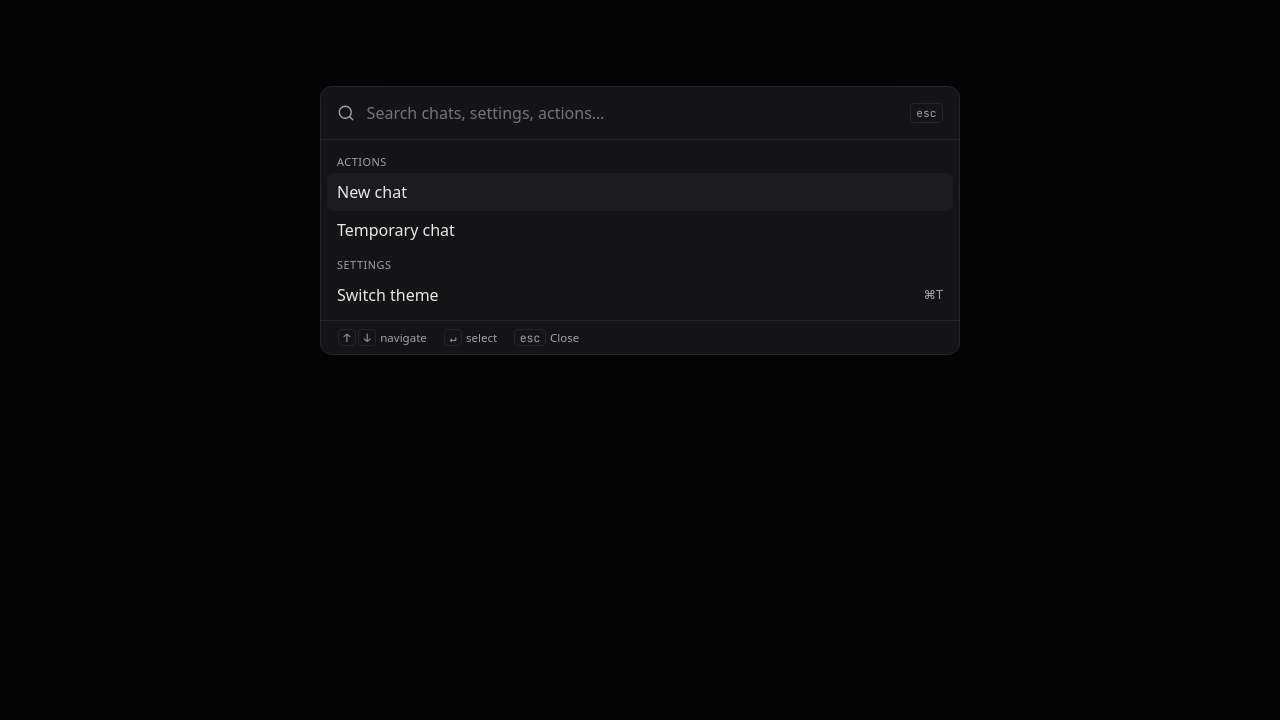
CommandPalette › shows the no-results state when nothing matches
Type "zzzzz" into the field at (632, 113), box [365,101,900,125]
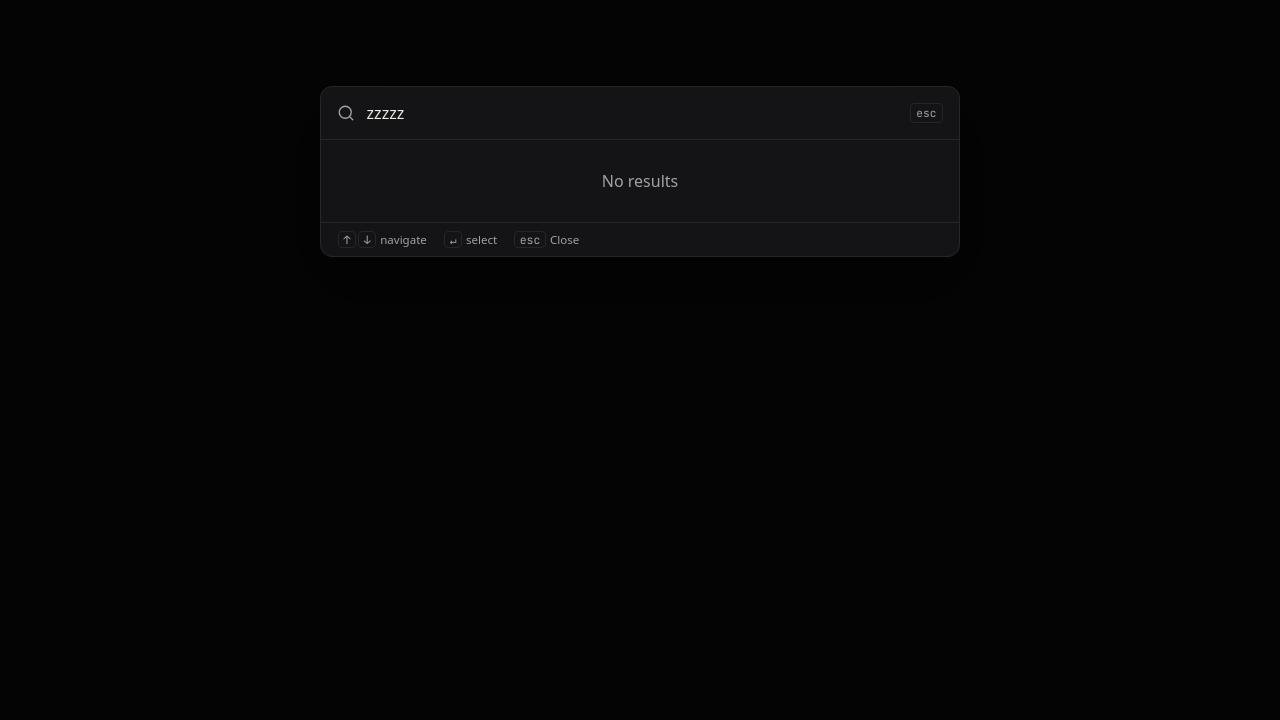
Expected: the text "No results" is shown, [602,170,678,192]
